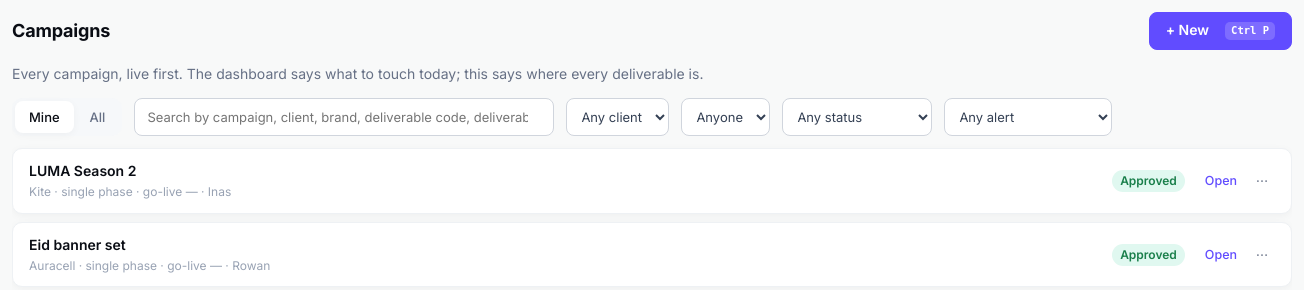
Test case: CampaignsPage — Mine and All, and the filters (CG-00, I57.3) › the smart search finds a campaign by a piece code
Step 1. Click the button with test id "campaigns-scope-all" → (98, 117), box [76,101,119,133]
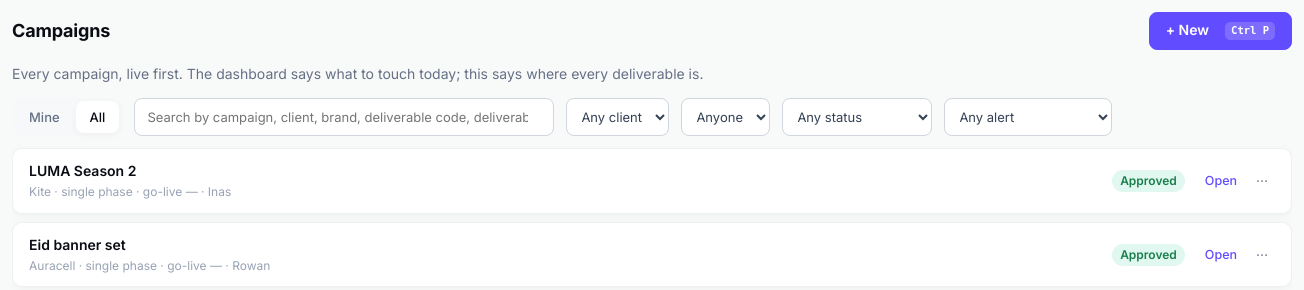
Step 2. Replace the text in the search field with test id "campaigns-search" with "DA-017" → (344, 117), box [134,98,554,136]
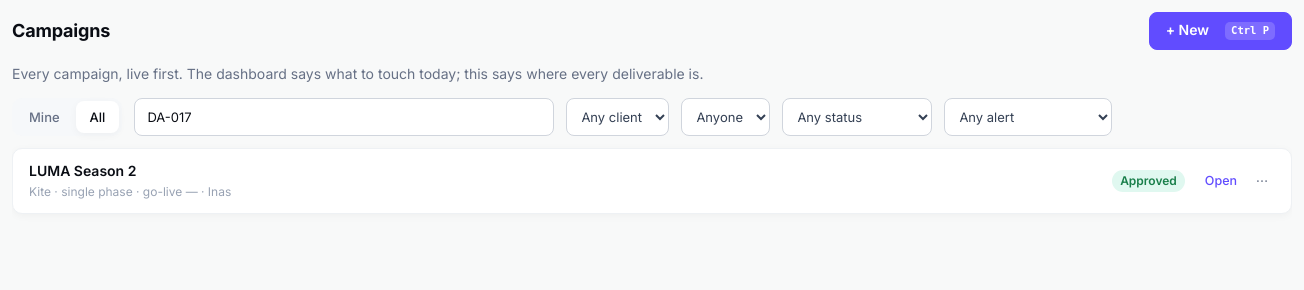
Check: the list item with test id "campaign-row-mine1" is shown, box [12,148,1292,214]
Check: the list item with test id "campaign-row-theirs" is gone
